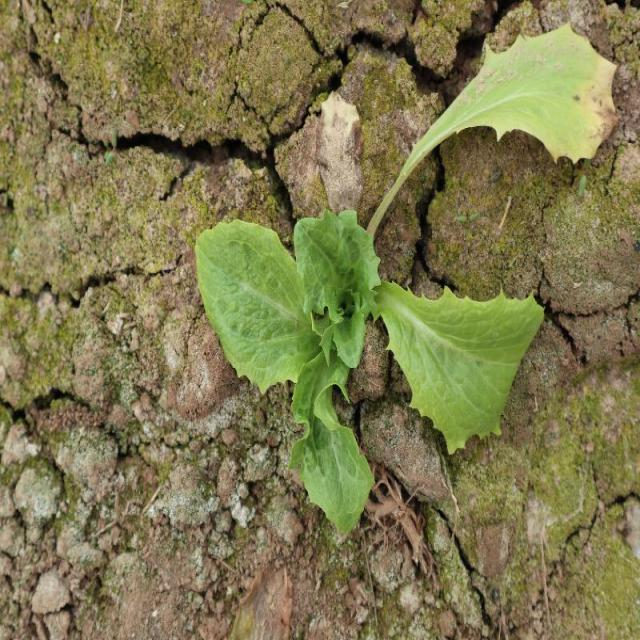crop: (192, 19, 620, 541)
